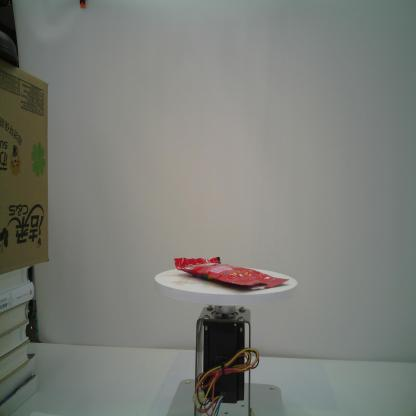Candy: (174, 256, 290, 288)
